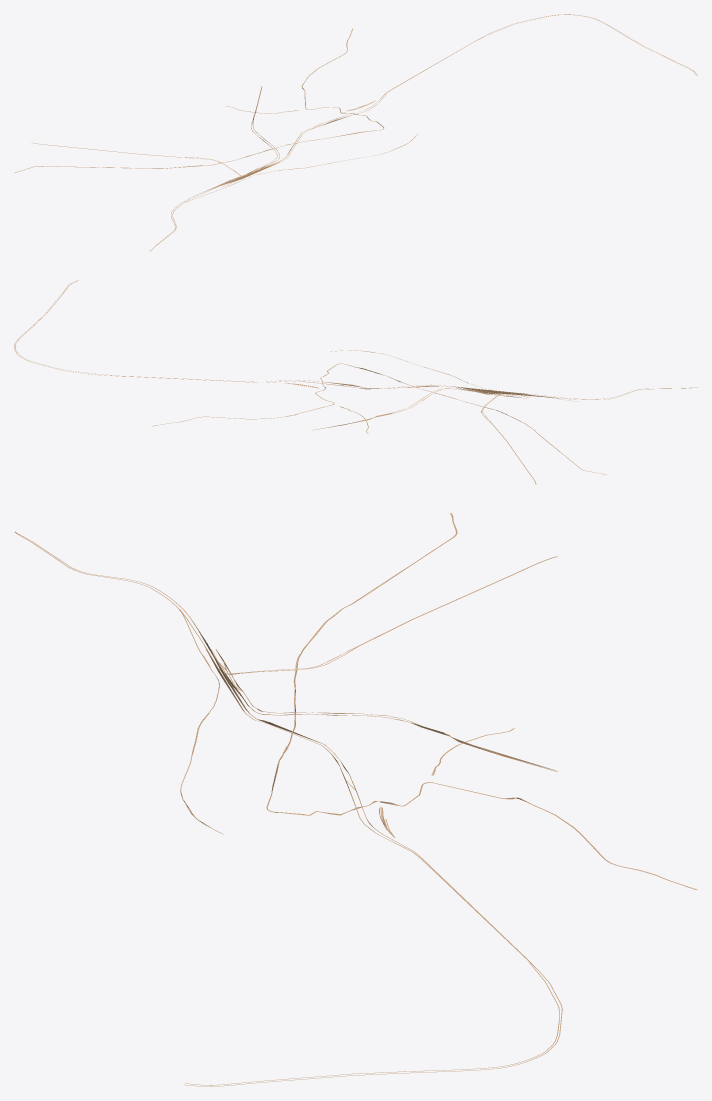
The model's file is rail.glb.
3 renders of one model, top to bottom at view 1: azimuth 30°, elevation 25°; view 2: azimuth 150°, elevation 25°; view 3: azimuth 270°, elevation 25°, orthographic. The views are drawn at different scales.
Parts seen in each view (by area): view 1: rail; view 2: rail; view 3: rail.
Boxes of the visible parts, x1,y1,x2,y2 form: rail: (14, 14, 697, 251); rail: (14, 280, 697, 484); rail: (14, 513, 697, 1086).
Bounding box in the file's own units: 9394 × 75.69 × 4747.
